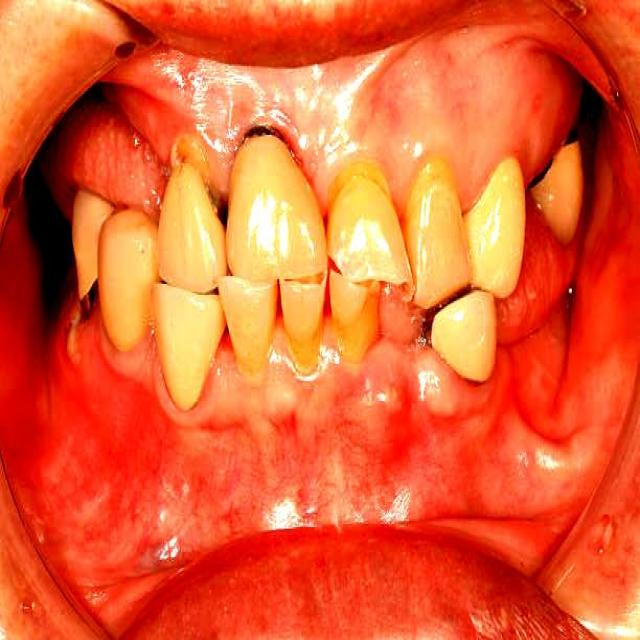caries: (158, 131, 220, 207), (74, 269, 108, 343), (234, 114, 280, 159), (554, 114, 582, 164), (526, 149, 556, 193)
